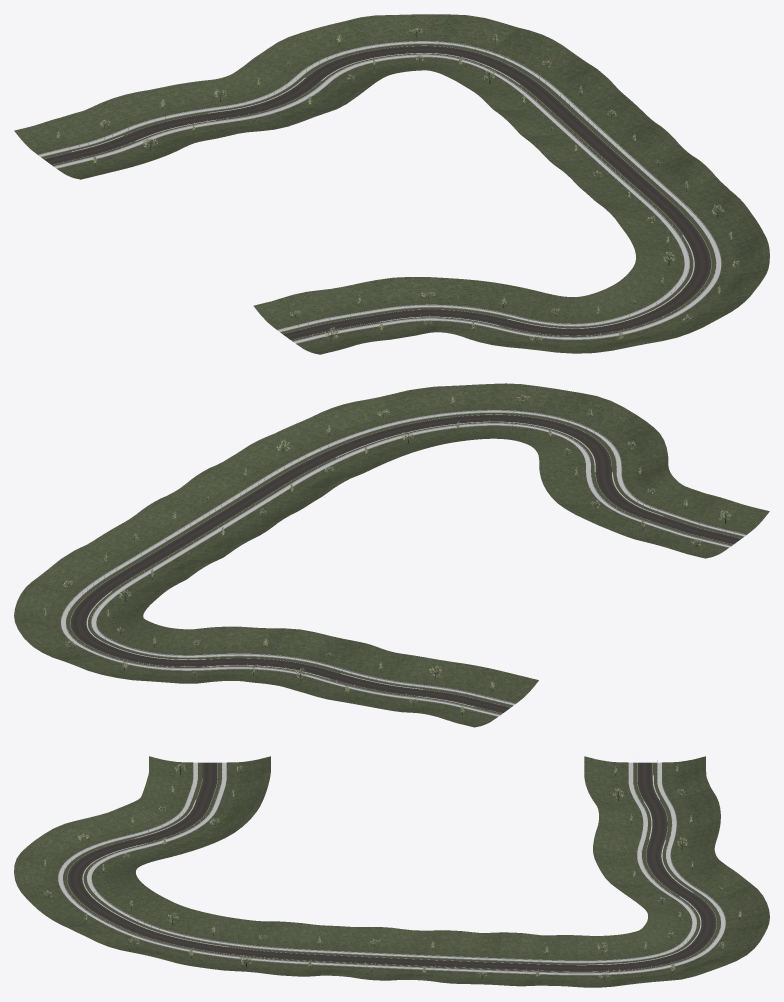
The picture shows the model from 3 angles, top to bottom: view 1: azimuth 30°, elevation 25°; view 2: azimuth 150°, elevation 25°; view 3: azimuth 270°, elevation 25°; orthographic projection. The views are drawn at different scales.
Parts seen in each view (by area): view 1: Grass, Road, Track, Trees; view 2: Grass, Road, Track, Trees; view 3: Grass, Road, Track, Trees.
Part boxes in pixels (left/top/right/bottom): Grass: left=14, top=14, right=769, bottom=354; Road: left=43, top=46, right=711, bottom=339; Track: left=38, top=40, right=721, bottom=343; Trees: left=56, top=28, right=739, bottom=343; Grass: left=14, top=383, right=769, bottom=727; Road: left=70, top=414, right=741, bottom=713; Track: left=61, top=410, right=746, bottom=716; Trees: left=43, top=394, right=731, bottom=715; Grass: left=14, top=756, right=769, bottom=987; Road: left=67, top=762, right=716, bottom=971; Track: left=58, top=760, right=725, bottom=975; Trees: left=43, top=763, right=741, bottom=980.
Size of what is drawn, in the model's own units: 61177 by 2560 by 86860.
